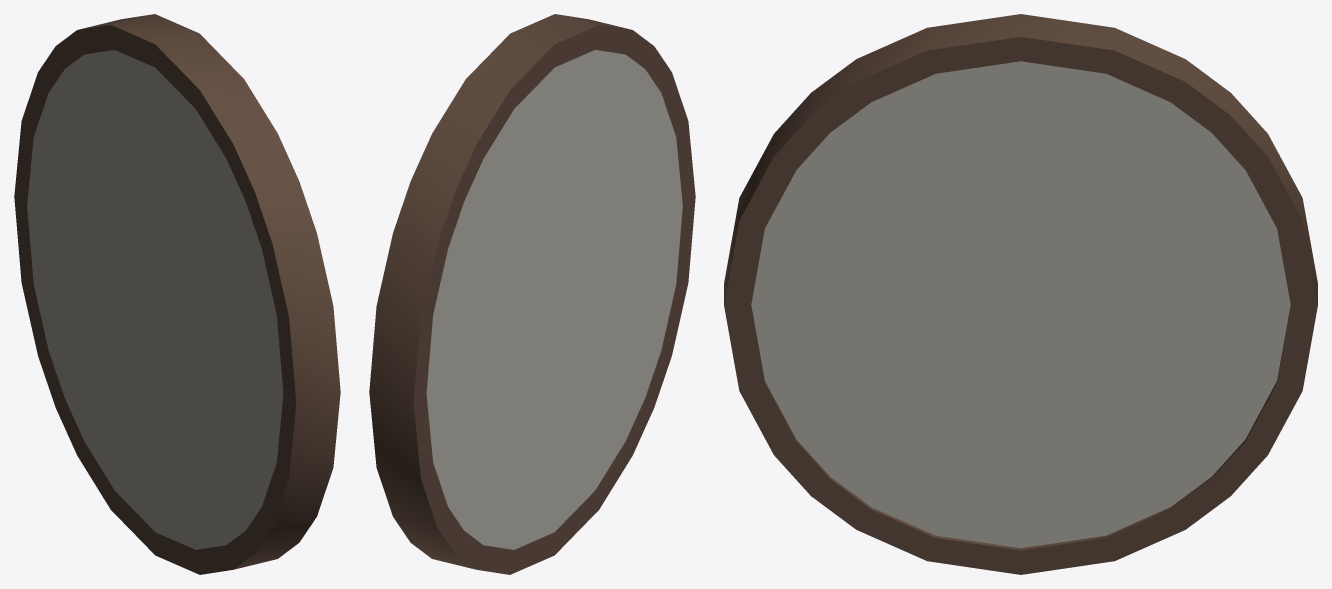
File: RELOJ.gltf
3 renders of one model, left to right at view 1: azimuth 30°, elevation 25°; view 2: azimuth 150°, elevation 25°; view 3: azimuth 270°, elevation 25°, orthographic. The views are drawn at different scales.
Visible parts, largest first — view 1: ClockFace, Union; view 2: ClockFace, Union; view 3: Glass, Union.
Part boxes in pixels (x1,y1,x2,y2): ClockFace: [27, 50, 283, 549]; Union: [14, 14, 340, 574]; ClockFace: [426, 50, 682, 549]; Union: [369, 14, 695, 574]; Glass: [751, 61, 1290, 548]; Union: [724, 14, 1317, 574].
Bounding box in the file's own units: 0.2 × 2.2 × 2.2.
